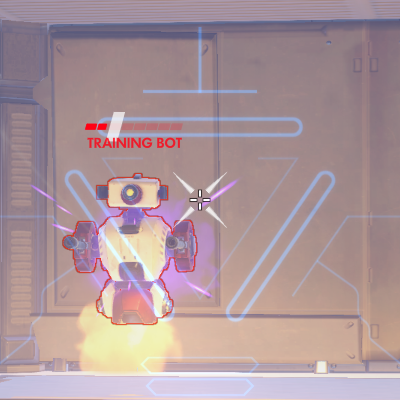hpbar: (84, 122, 183, 131)
